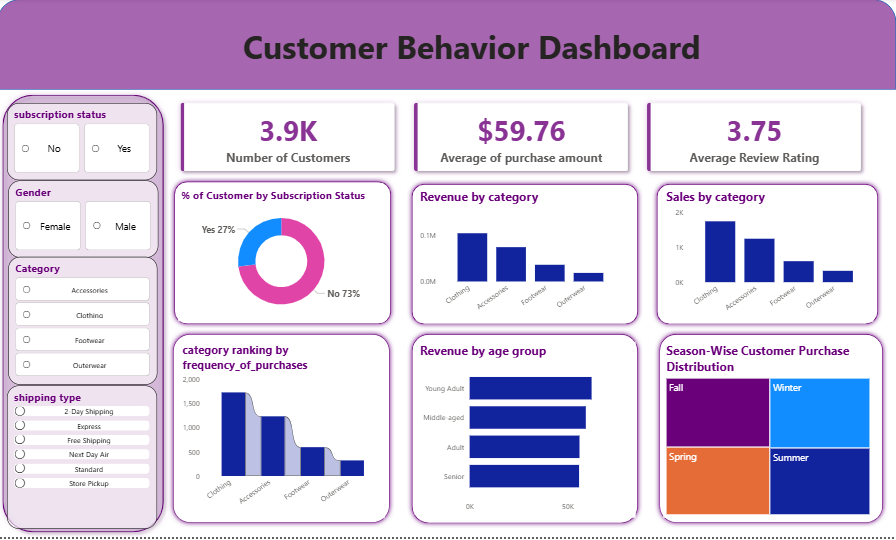

Layout of this report page (visuals, bound fields, positions):
{"tool":"powerbi","page":{"name":"Page 1","canvas":[1500,900],"ordinal":0},"visuals":[{"type":"cardVisual","fields":{"Data":["customer_behavior customer.Number of Customers","customer_behavior customer.Average of purchase amount","customer_behavior customer.Average Review Rating"]},"box":[276.8,145.2,1194.2,172.3],"z":0},{"type":"shape","box":[0,1.6,1500.3,151.2],"z":1000},{"type":"textbox","box":[212.3,40.2,1162.6,90.1],"z":2000},{"type":"shape","box":[287.3,299,377.5,253.9],"z":3000},{"type":"donutChart","title":"% of  Customer  by Subscription Status","fields":{"Category":["customer_behavior customer.subscription_status"],"Y":["CountNonNull(customer_behavior customer.customer_id)"]},"box":[302.3,317.4,344.1,222.2],"z":4000},{"type":"actionButton","box":[0,0,100,40],"z":5000},{"type":"shape","box":[683.2,304,372.5,248.9],"z":6000},{"type":"shape","box":[1077.4,304,384.2,248.9],"z":7000},{"type":"clusteredColumnChart","title":"Revenue by category","fields":{"Y":["Sum(customer_behavior customer.purchase_amount)"],"Category":["customer_behavior customer.category"]},"box":[699.9,317.4,344.1,222.2],"z":8000},{"type":"clusteredColumnChart","title":"Sales by category","fields":{"Category":["customer_behavior customer.category"],"Y":["CountNonNull(customer_behavior customer.customer_id)"]},"box":[1097.4,317.4,349.1,222.2],"z":9000},{"type":"shape","box":[0,152,287.3,748.3],"z":10000},{"type":"advancedSlicerVisual","title":"subscription status","fields":{"Values":["customer_behavior customer.subscription_status"]},"box":[16.7,175.4,250.6,128.6],"z":11000},{"type":"advancedSlicerVisual","title":"Gender","fields":{"Values":["customer_behavior customer.gender"]},"box":[18.4,304,250.6,128.6],"z":12000},{"type":"advancedSlicerVisual","title":"Category","fields":{"Values":["customer_behavior customer.category"]},"box":[18.4,432.6,248.9,213.8],"z":13000},{"type":"listSlicer","title":"shipping type","fields":{"Values":["customer_behavior customer.shipping_type"]},"box":[16.7,646.4,250.6,238.9],"z":14000},{"type":"shape","box":[683.2,563.2,394.8,321.3],"z":16000},{"type":"shape","box":[286.5,553.5,377.4,331],"z":17000},{"type":"ribbonChart","title":"category ranking by frequency_of_purchases","fields":{"Category":["customer_behavior customer.category"],"Y":["CountNonNull(customer_behavior customer.frequency_of_purchases)"]},"box":[303.9,572.9,342.6,294.2],"z":17001},{"type":"shape","box":[1097.4,553.5,389,331],"z":17002},{"type":"clusteredBarChart","title":"Revenue by age group","fields":{"Category":["customer_behavior customer.age_group"],"Y":["Sum(customer_behavior customer.purchase_amount)"]},"box":[700.6,572.9,354.2,294.2],"z":17003},{"type":"treemap","title":"Season-Wise Customer Purchase Distribution","fields":{"Group":["customer_behavior customer.season"],"Values":["Sum(customer_behavior customer.purchase_amount)"]},"box":[1111,572.9,350.3,294.2],"z":17004}]}

Visuals, with their boxes in screenshot pixels (x1, y1, x2, y2), scaled from the page's 1500x900 canvas onto the 896x540 screenshot:
cardVisual - customer_behavior customer.Number of Customers x customer_behavior customer.Average of purchase amount: box=[165, 87, 879, 190]
shape: box=[0, 1, 895, 92]
textbox: box=[127, 24, 821, 78]
shape: box=[172, 179, 397, 332]
"% of  Customer  by Subscription Status" donutChart: box=[181, 190, 386, 324]
actionButton: box=[0, 0, 60, 24]
shape: box=[408, 182, 631, 332]
shape: box=[644, 182, 873, 332]
"Revenue by category" clusteredColumnChart: box=[418, 190, 624, 324]
"Sales by category" clusteredColumnChart: box=[656, 190, 864, 324]
shape: box=[0, 91, 172, 539]
"subscription status" advancedSlicerVisual: box=[10, 105, 160, 182]
"Gender" advancedSlicerVisual: box=[11, 182, 161, 260]
"Category" advancedSlicerVisual: box=[11, 260, 160, 388]
"shipping type" listSlicer: box=[10, 388, 160, 531]
shape: box=[408, 338, 644, 531]
shape: box=[171, 332, 397, 531]
"category ranking by frequency_of_purchases" ribbonChart: box=[182, 344, 386, 520]
shape: box=[656, 332, 888, 531]
"Revenue by age group" clusteredBarChart: box=[418, 344, 630, 520]
"Season-Wise Customer Purchase Distribution" treemap: box=[664, 344, 873, 520]
